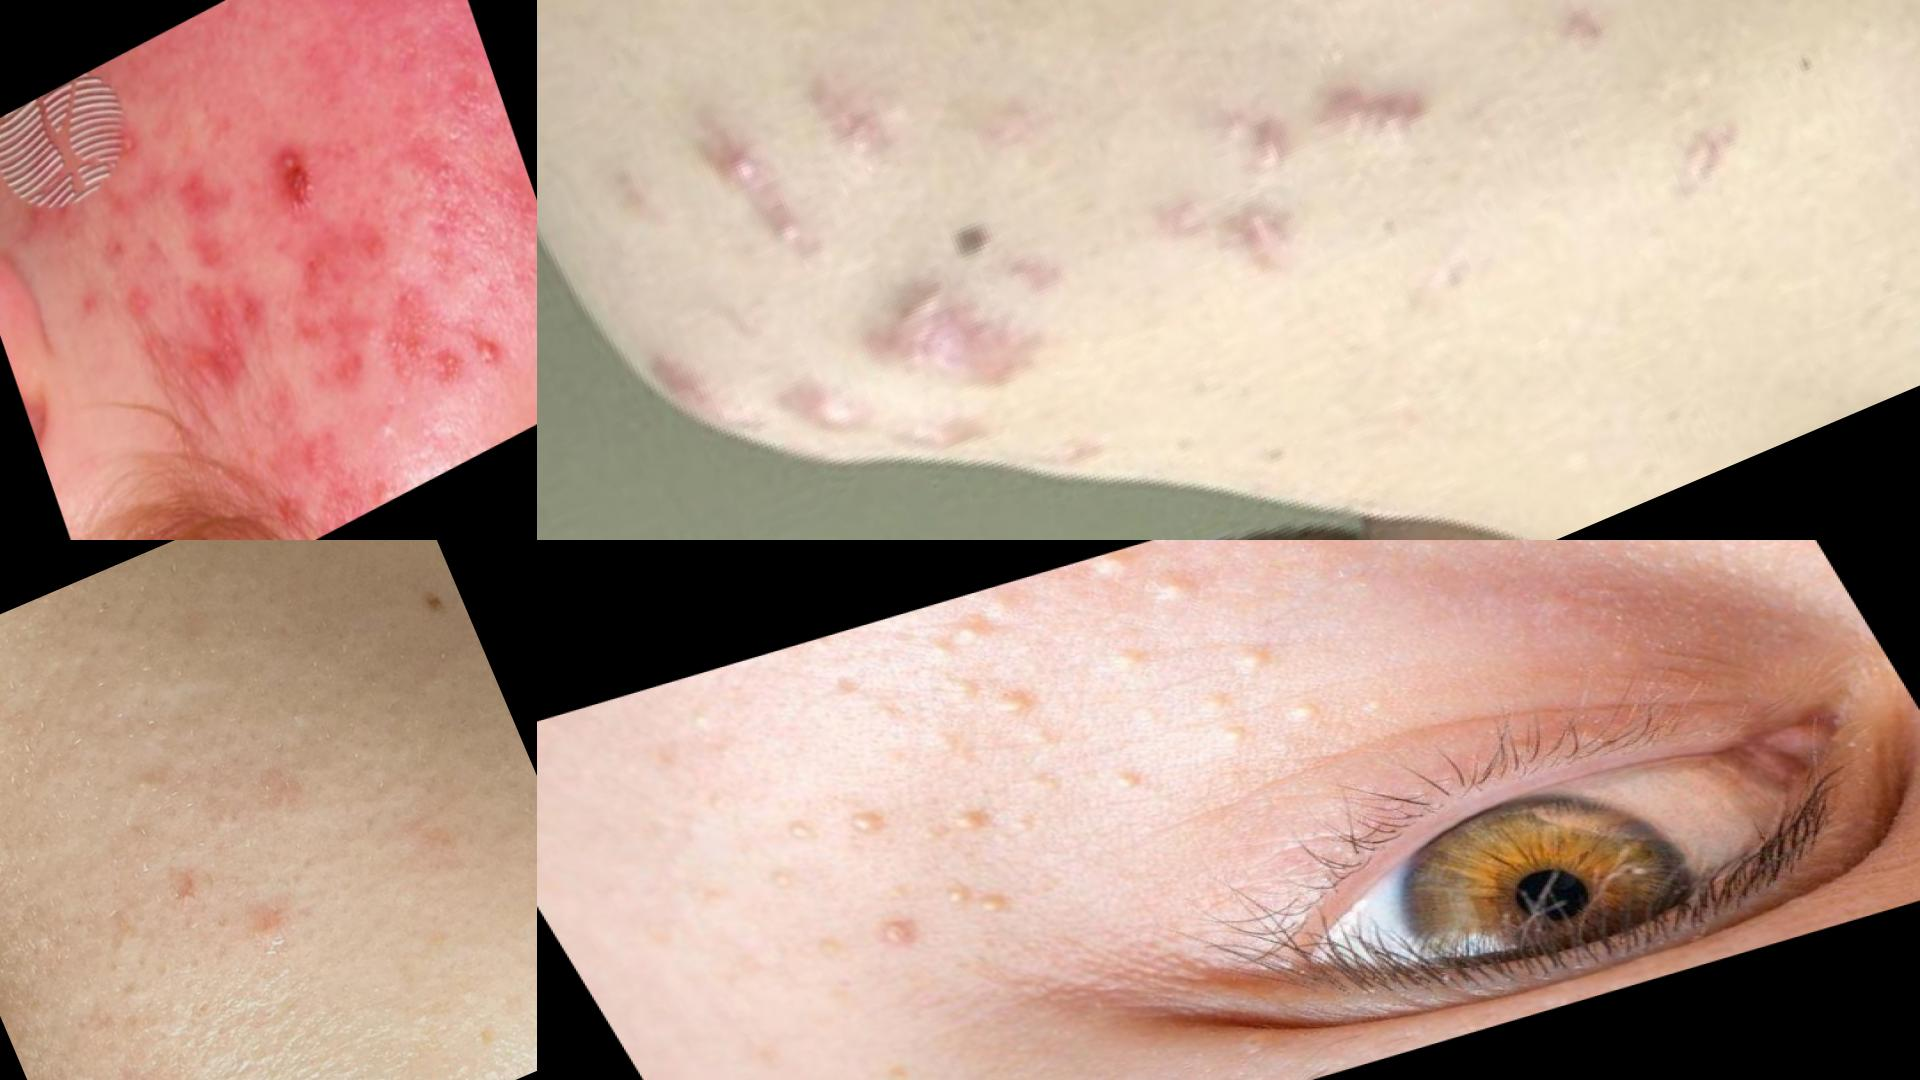acne_scars: (165, 266, 258, 401), (167, 149, 243, 235), (378, 262, 439, 353), (305, 336, 372, 401), (225, 265, 284, 335), (336, 211, 390, 280), (418, 190, 472, 258), (90, 208, 137, 280), (295, 239, 336, 299)
keloid: (1126, 44, 1476, 310), (753, 243, 1043, 493), (671, 40, 934, 284)
milium: (1149, 628, 1353, 762), (916, 644, 1084, 762), (1069, 541, 1225, 640), (907, 782, 1051, 872), (913, 858, 1038, 940), (934, 584, 1064, 662), (852, 905, 942, 967), (766, 808, 832, 862), (1100, 633, 1171, 682), (1098, 760, 1166, 808), (835, 804, 899, 849)
papular: (90, 1058, 175, 1080)
purulent: (471, 318, 510, 375)
sebo-crystan-conglo: (262, 119, 323, 218)
whitehead: (214, 877, 319, 975), (357, 384, 415, 465), (107, 756, 175, 814)
